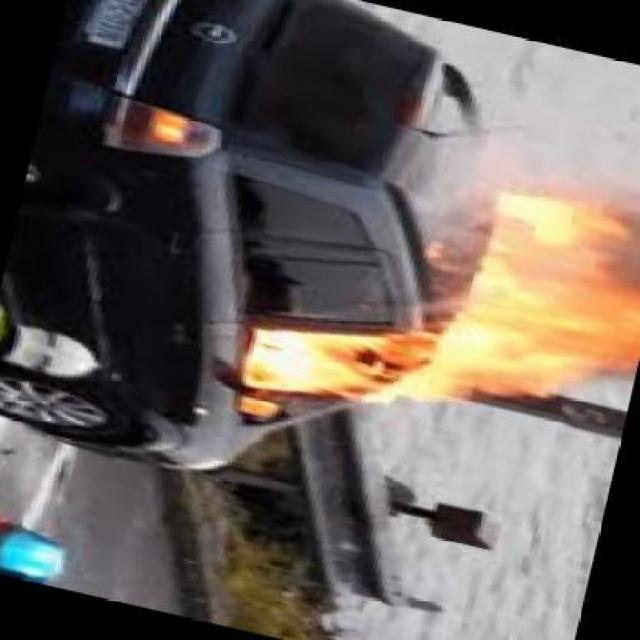Fire: (217, 172, 640, 462)
